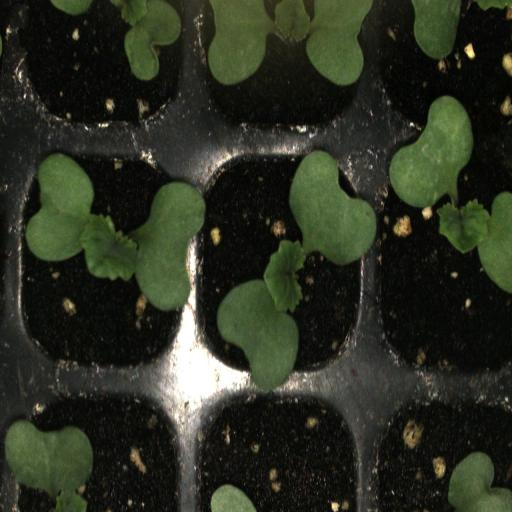Folha: (111, 0, 192, 81), (411, 0, 461, 60)
Germinacao: (16, 140, 194, 385), (193, 142, 365, 384), (366, 141, 512, 386), (195, 0, 367, 140)
